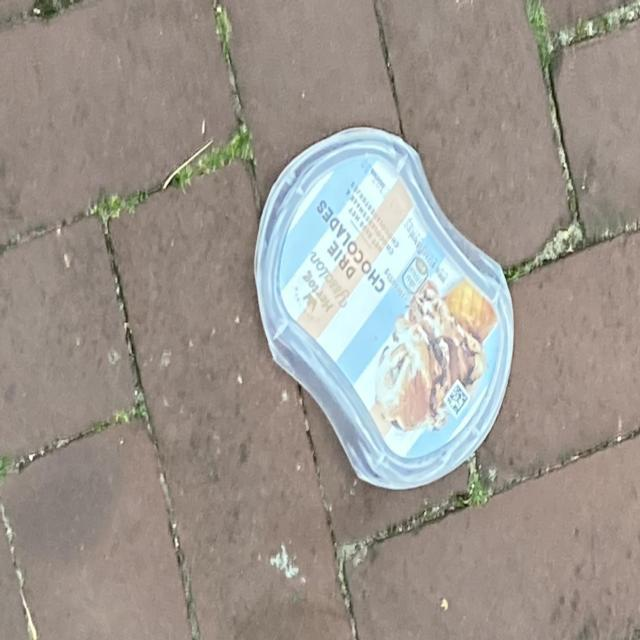Paper: (251, 126, 515, 492)
